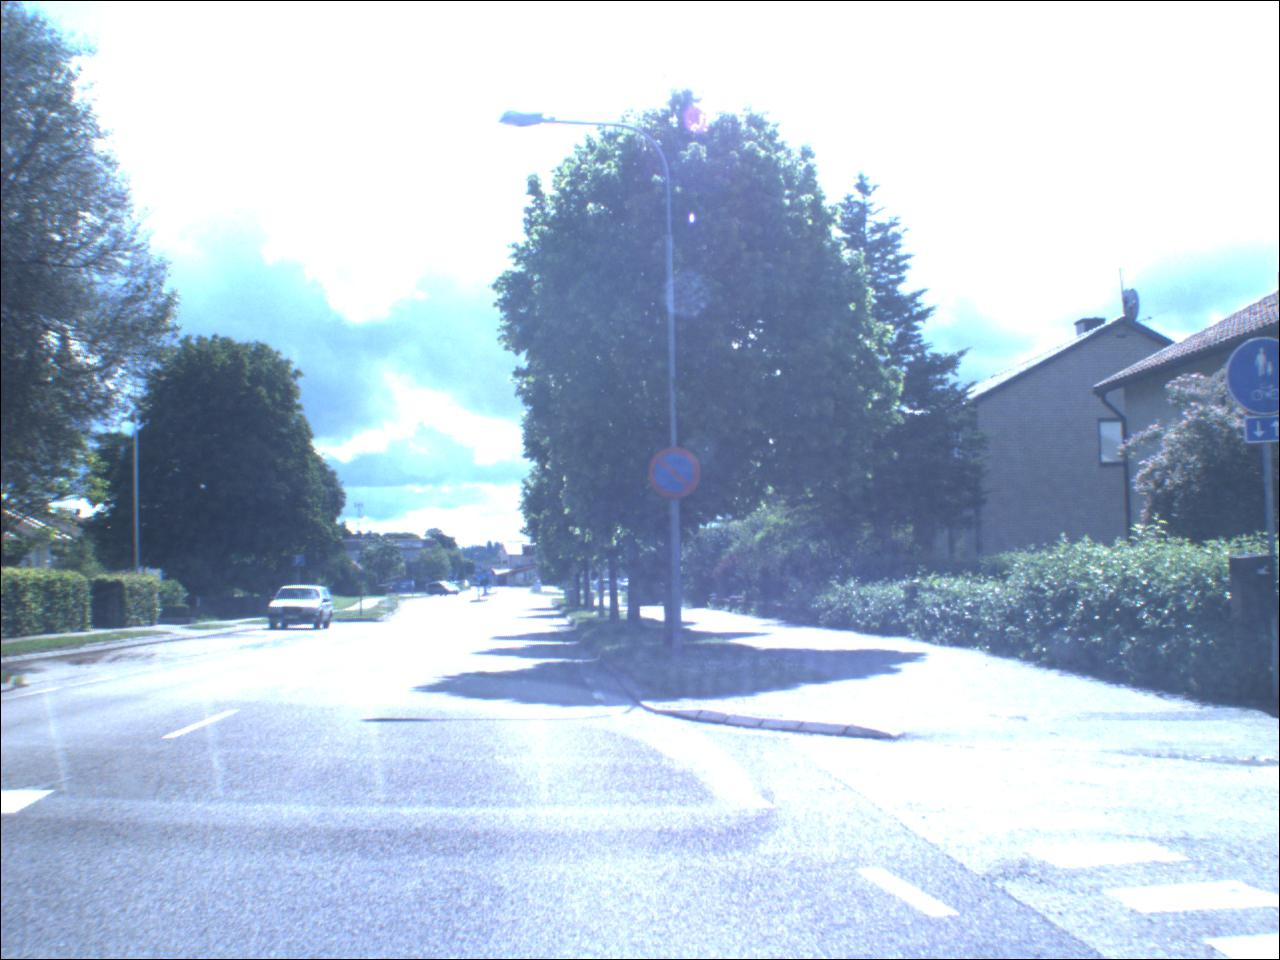NO_PARKING: (648, 449, 703, 501)
